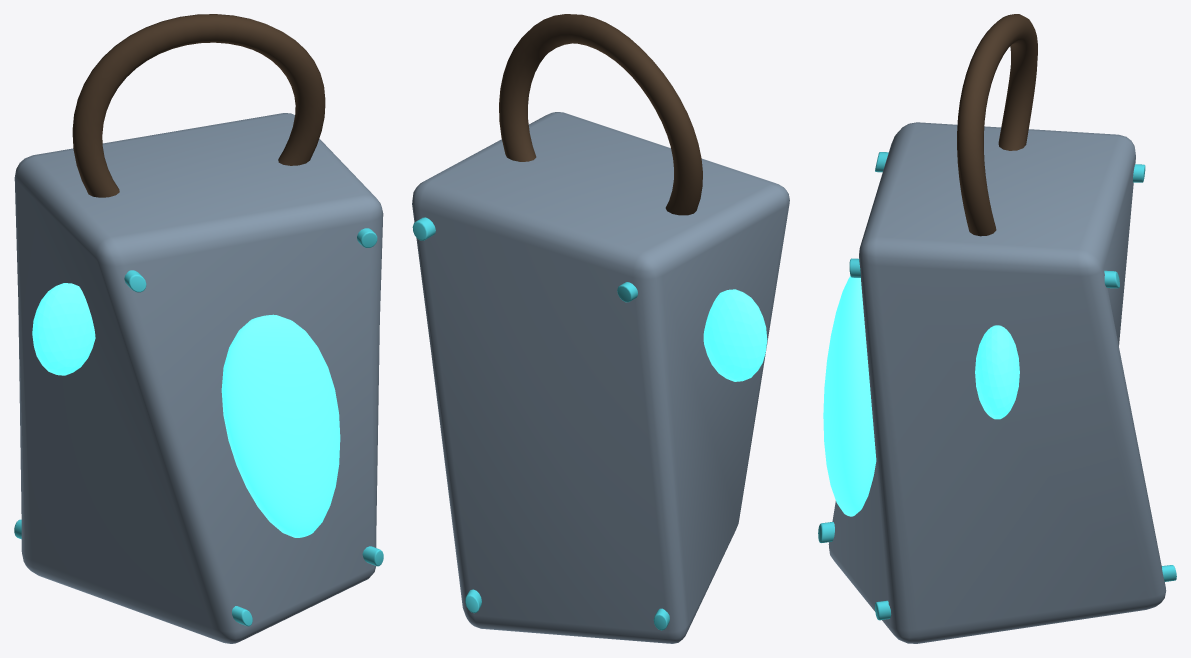
Rendered from trinket_v8.glb.
3 views of the same model, side by side, from view 1: azimuth 30°, elevation 25°; view 2: azimuth 150°, elevation 25°; view 3: azimuth 270°, elevation 25° (orthographic).
Visible parts, largest first — view 1: LANTERN_FRAME_PRIMARY, LANTERN_FLAME_EMISSIVE, LANTERN_HANDLE_SECONDARY, ASCENDANT_GEM_EMISSIVE.002; view 2: LANTERN_FRAME_PRIMARY, LANTERN_HANDLE_SECONDARY, ASCENDANT_GEM_EMISSIVE.002; view 3: LANTERN_FRAME_PRIMARY, LANTERN_HANDLE_SECONDARY, LANTERN_FLAME_EMISSIVE, ASCENDANT_GEM_EMISSIVE.
Boxes of the visible parts, x1,y1,x2,y2 form: LANTERN_FRAME_PRIMARY: (14,113,383,643); LANTERN_FLAME_EMISSIVE: (221,314,340,537); LANTERN_HANDLE_SECONDARY: (72,14,325,197); ASCENDANT_GEM_EMISSIVE.002: (32,283,95,375); LANTERN_FRAME_PRIMARY: (412,112,789,643); LANTERN_HANDLE_SECONDARY: (499,14,702,215); ASCENDANT_GEM_EMISSIVE.002: (703,289,767,381); LANTERN_FRAME_PRIMARY: (828,122,1166,643); LANTERN_HANDLE_SECONDARY: (957,14,1037,236); LANTERN_FLAME_EMISSIVE: (823,276,876,516); ASCENDANT_GEM_EMISSIVE: (975,325,1019,419).
Size of the model in its own units: 1.52 by 2.48 by 1.44.
